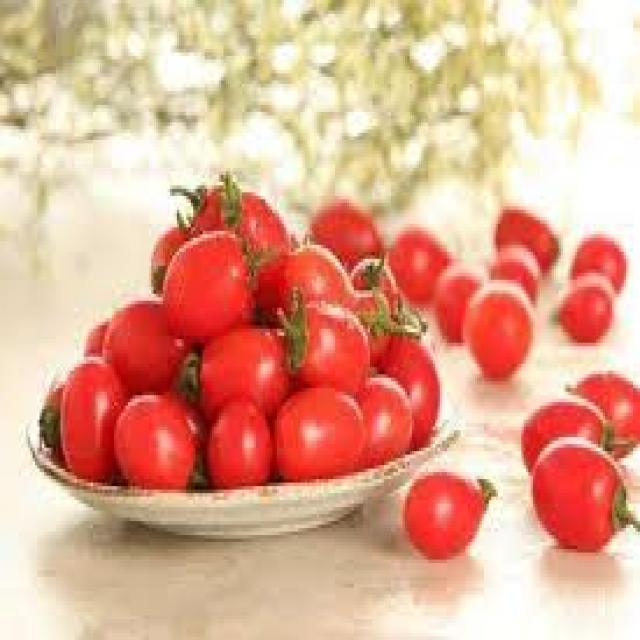organic waste: (530, 437, 638, 563), (161, 217, 265, 329), (275, 287, 370, 402), (112, 381, 207, 490), (184, 314, 286, 412), (519, 395, 631, 483), (258, 227, 347, 329), (272, 378, 363, 476), (374, 314, 438, 448), (58, 346, 121, 479), (105, 290, 191, 381), (402, 465, 487, 556), (460, 280, 530, 378), (563, 364, 638, 454), (310, 196, 384, 287), (221, 171, 289, 266), (386, 217, 454, 301), (207, 392, 268, 482), (491, 196, 559, 273), (354, 367, 409, 462), (547, 269, 612, 343), (568, 231, 624, 301), (435, 259, 482, 339), (349, 248, 398, 322), (349, 283, 398, 357), (168, 168, 225, 227), (487, 238, 538, 301), (149, 220, 191, 290), (40, 374, 74, 437), (82, 311, 107, 360)
